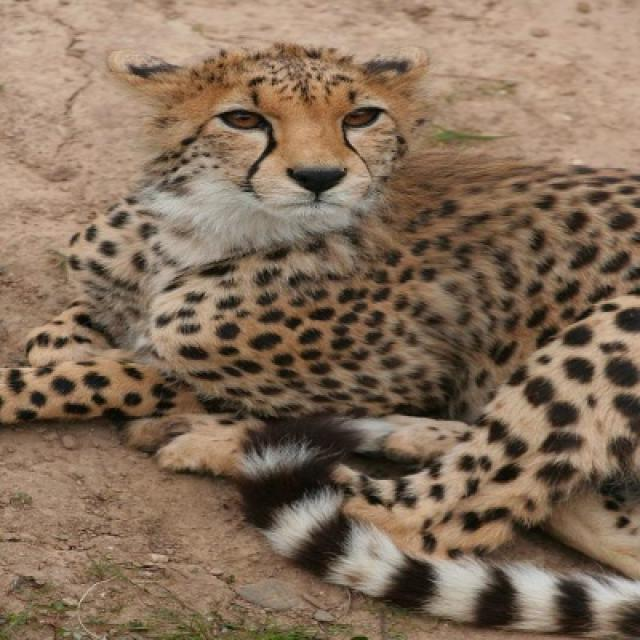Cheetah: (21, 46, 638, 638)
